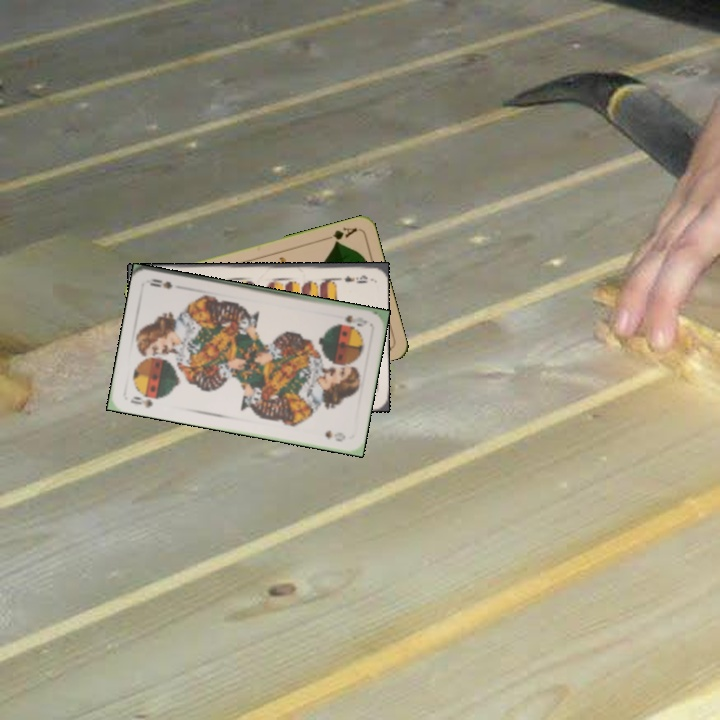E9: (331, 271, 370, 286)
GA: (320, 223, 359, 246)
SO: (126, 391, 162, 411), (341, 311, 370, 329)
